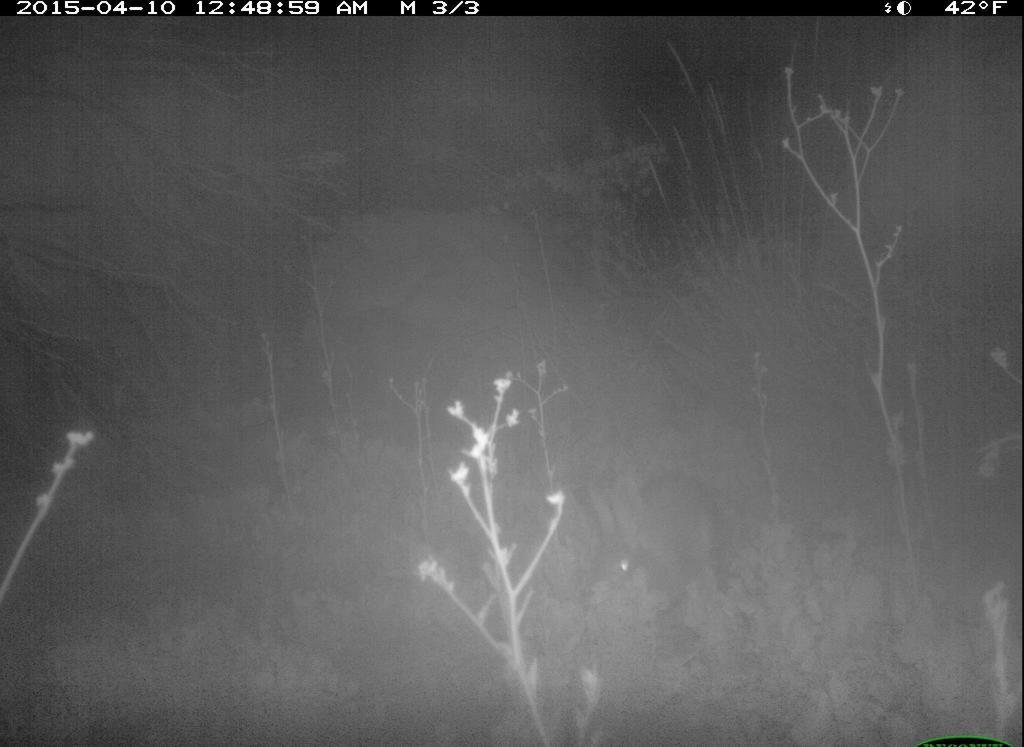rabbit: (585, 465, 735, 619)
